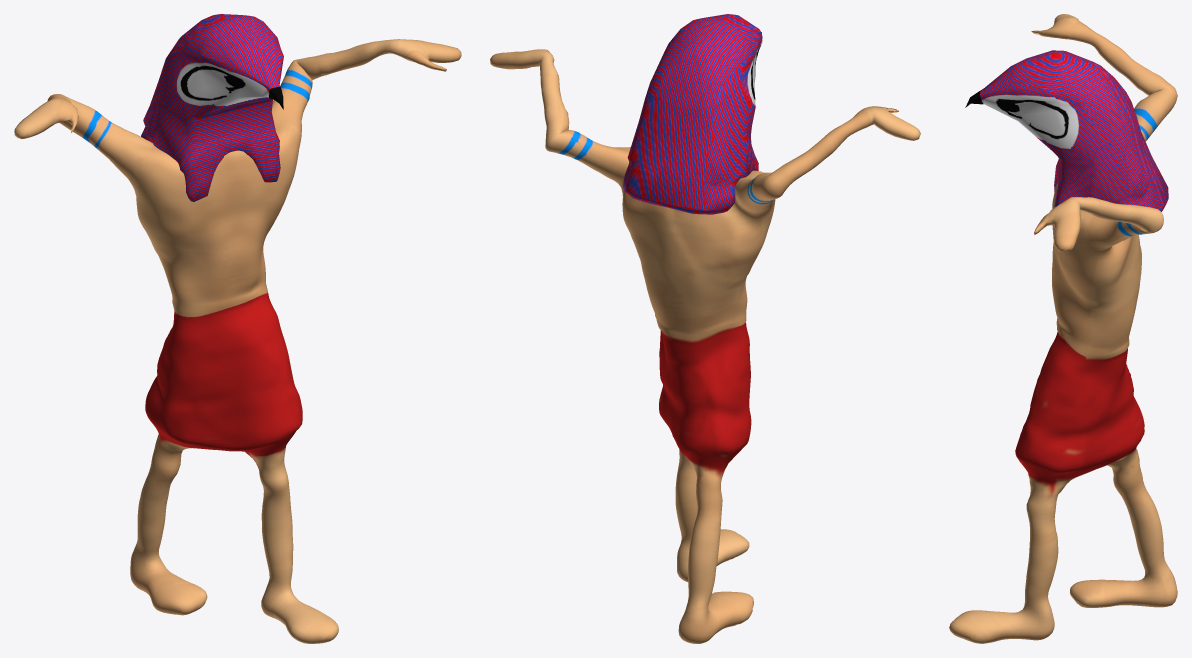
The model's file is Statue3.fbx.
The picture shows the model from 3 angles, left to right: view 1: azimuth 30°, elevation 25°; view 2: azimuth 150°, elevation 25°; view 3: azimuth 270°, elevation 25°; orthographic projection. The views are drawn at different scales.
Visible parts, largest first — view 1: GodBody_low.001; view 2: GodBody_low.001; view 3: GodBody_low.001.
Part boxes in pixels (x1,y1,x2,y2): GodBody_low.001: [14, 14, 461, 643]; GodBody_low.001: [490, 14, 920, 643]; GodBody_low.001: [949, 14, 1177, 643].
Bounding box in the file's own units: 628 × 808 × 296.
